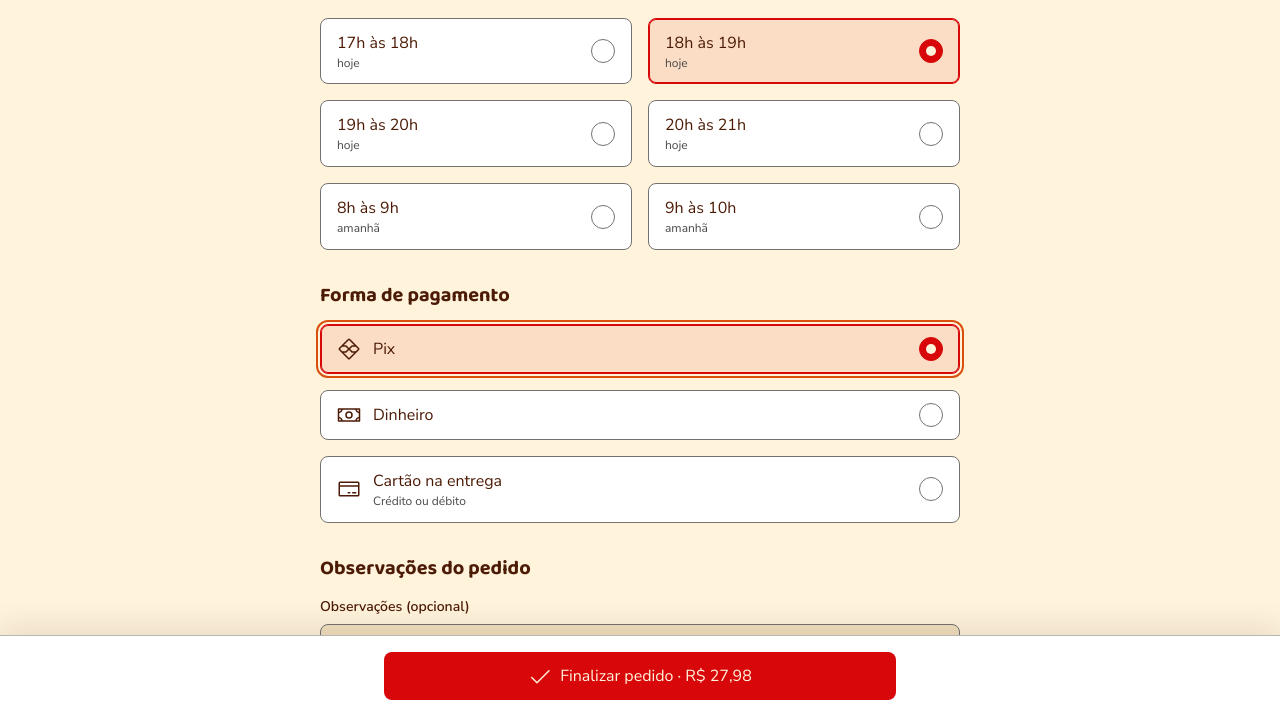
it: taxa de entrega por CEP no Seu pedido › BrasilAPI fora do ar: não bloqueia, a taxa fica 'a confirmar' e isso vai na comanda
This screenshot has width=1280, height=710.
Earlier steps of the test are not shown.
(page scrolled)
Click the button "Finalizar pedido · R$ 27,98" at (640, 676), box [384,652,896,700]
(page scrolled)
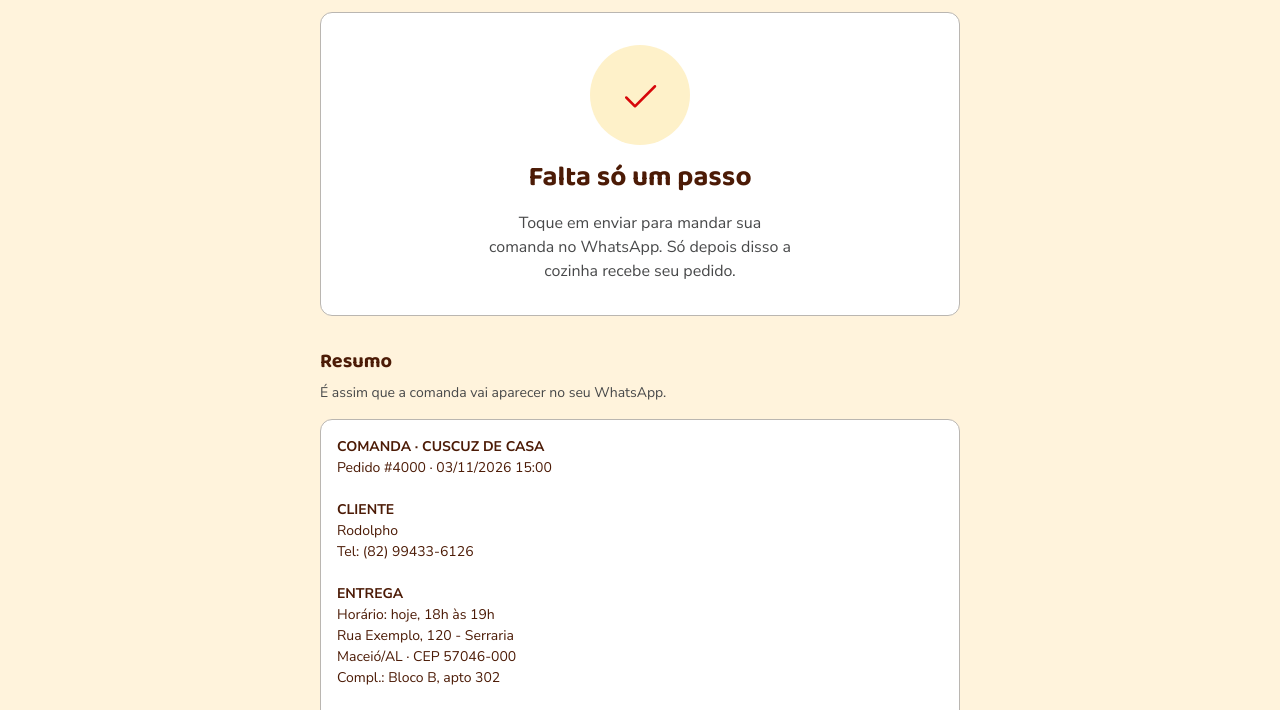
Now the heading "Falta só um passo" is shown, box [528,161,752,195]
